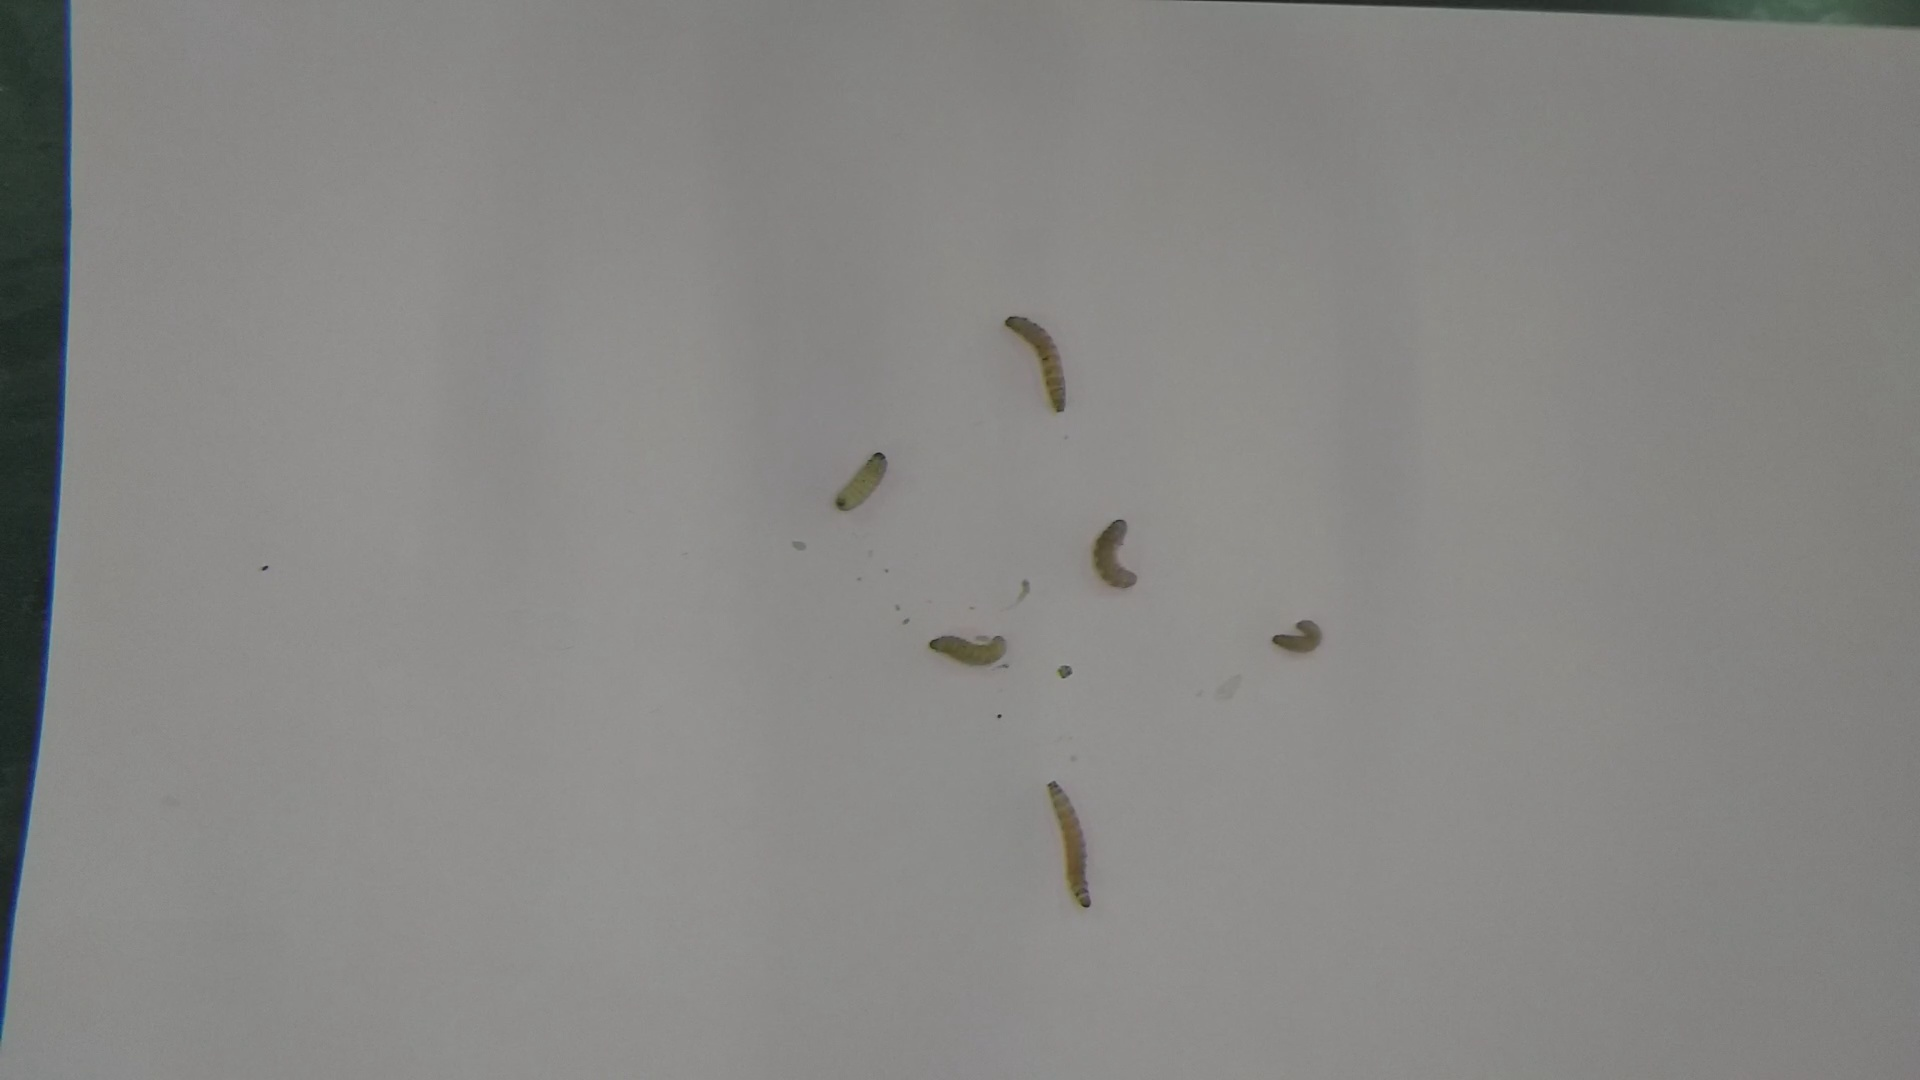efsb: (1039, 771, 1097, 916), (1088, 510, 1146, 601), (827, 447, 891, 520), (922, 626, 1017, 673), (1263, 604, 1329, 665)
